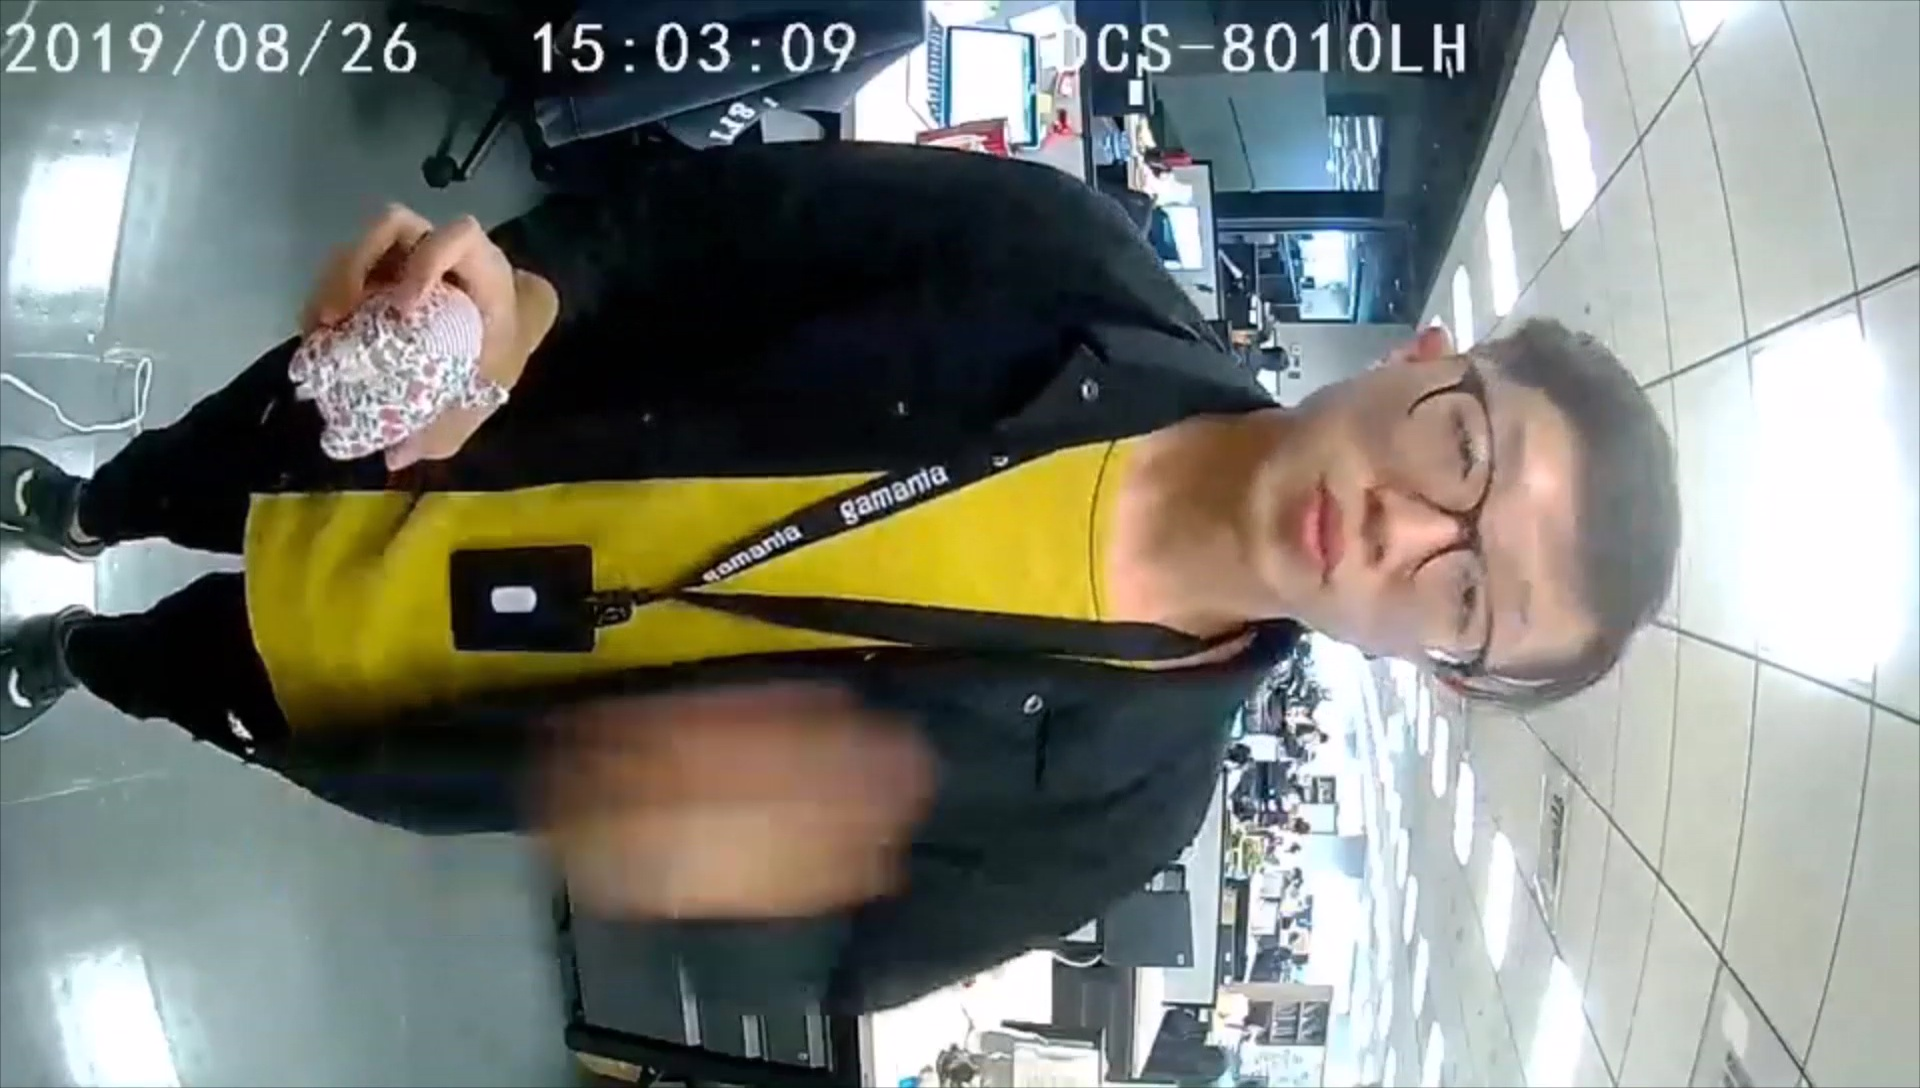pig: (284, 276, 516, 466)
